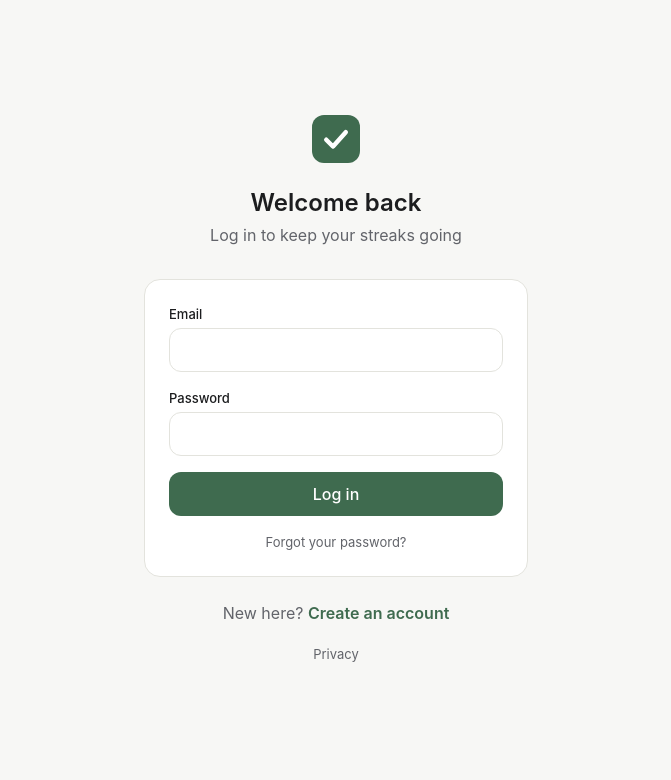
Test case: privacy page › is readable without an account and linked from the login page
Click the link "Privacy": (336, 654) [313, 646, 359, 662]
(page scrolled)
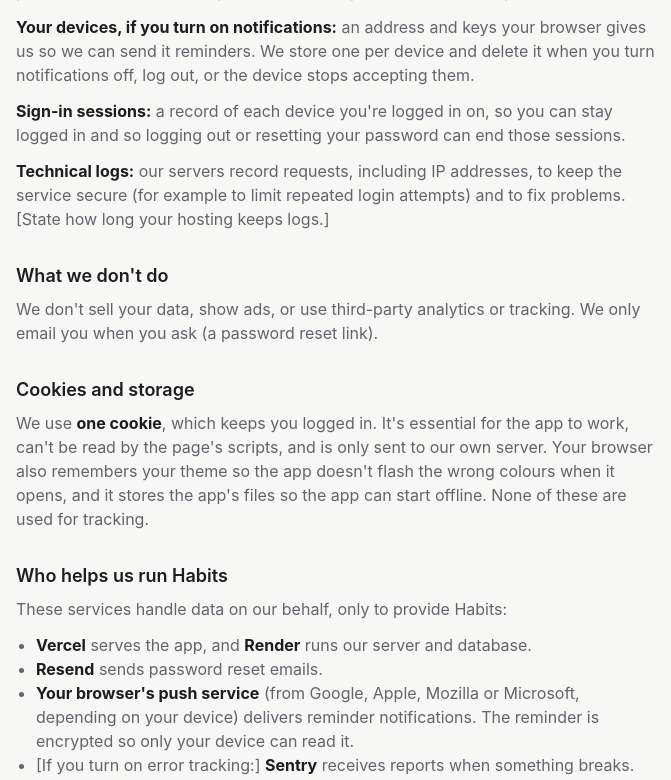
Check: the heading "Cookies and storage" is shown, box [16, 379, 195, 400]
